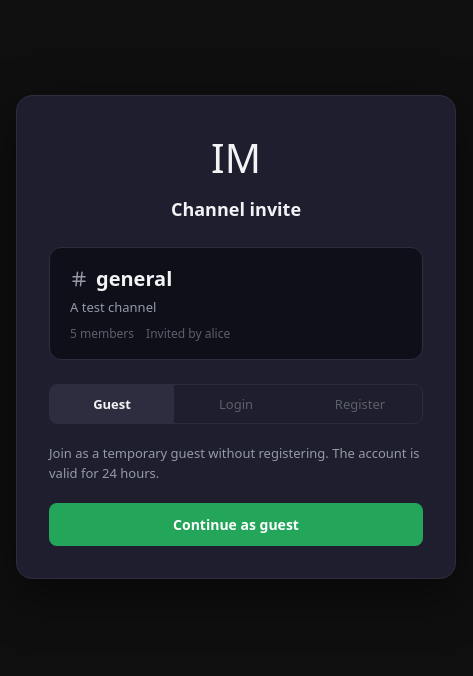
Test: InvitePage › login: shows error message when credentials are wrong
expect the text "general" is shown: met, box [96,264,172,294]
Click the button "Login" at (236, 404), box [174,385,298,423]
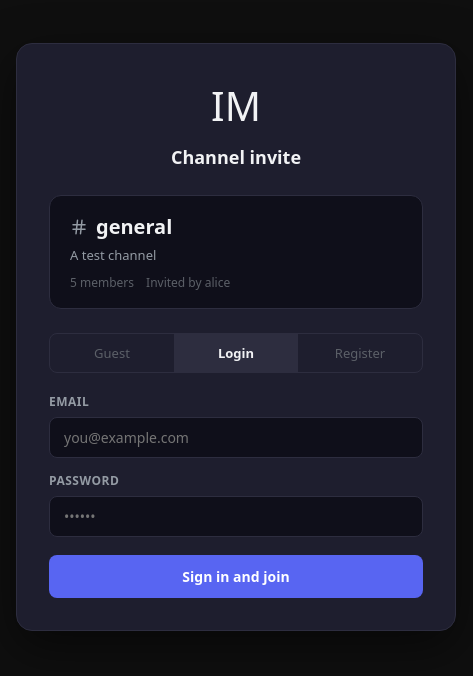
Submit the form "Email Password Sign in and join", box [49,393,423,598]
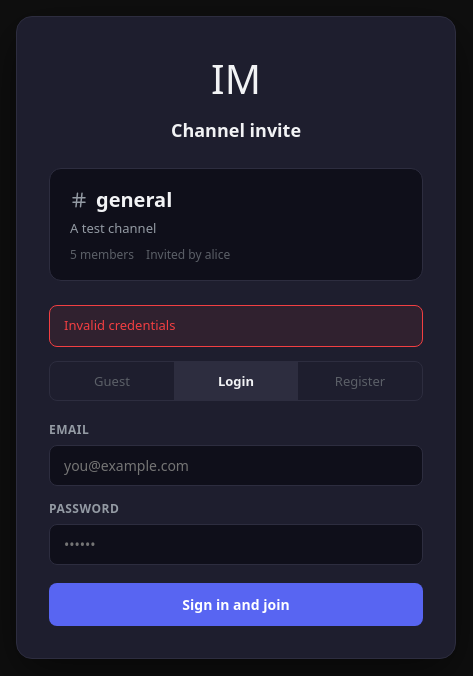
expect the text "Invalid credentials" is shown: met, box [49,305,423,346]
